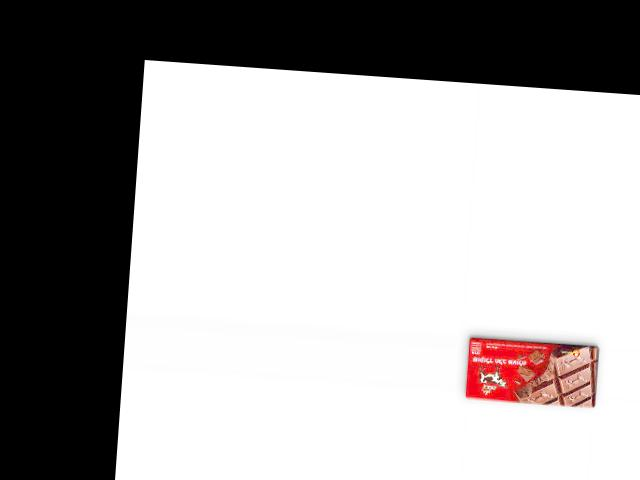chocolate: (461, 331, 602, 411)
